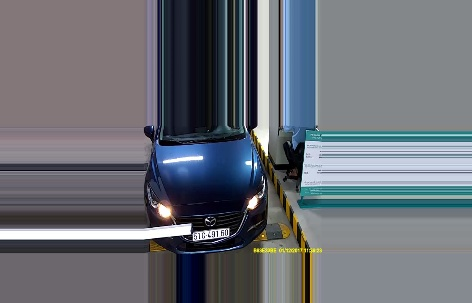plate: (189, 224, 232, 243)
